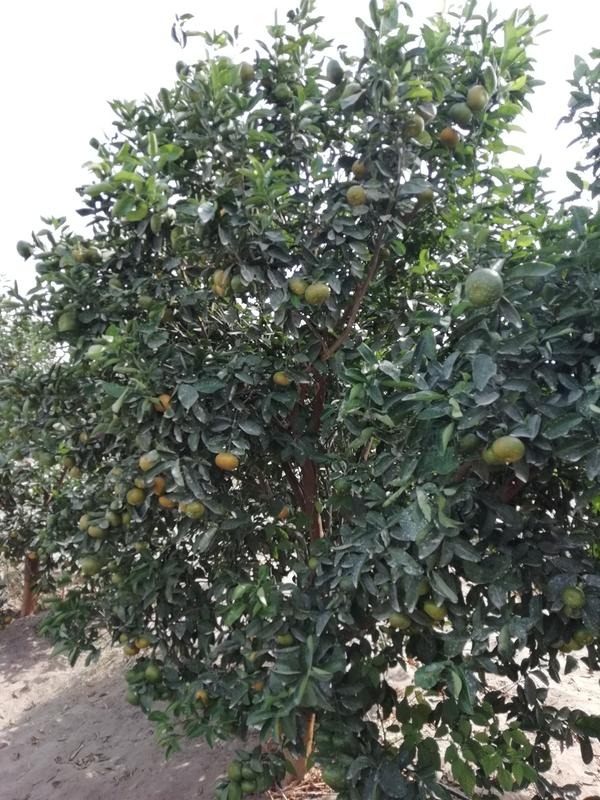mandarina naranja: (214, 453, 238, 472)
mandarina verde: (465, 268, 504, 308), (492, 435, 526, 464), (560, 584, 586, 610), (304, 281, 331, 304), (450, 101, 474, 126), (421, 597, 447, 620), (467, 86, 489, 111), (80, 555, 101, 575), (125, 488, 145, 507), (185, 501, 205, 520), (346, 185, 365, 205), (440, 128, 460, 147), (227, 758, 242, 782), (290, 274, 306, 295), (144, 665, 162, 682), (272, 370, 291, 386), (87, 523, 105, 539), (242, 763, 256, 781), (242, 781, 259, 795)
